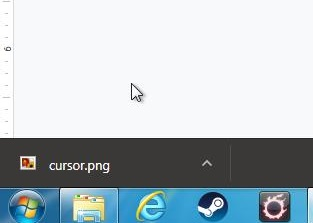cursor: (129, 81, 145, 105)
